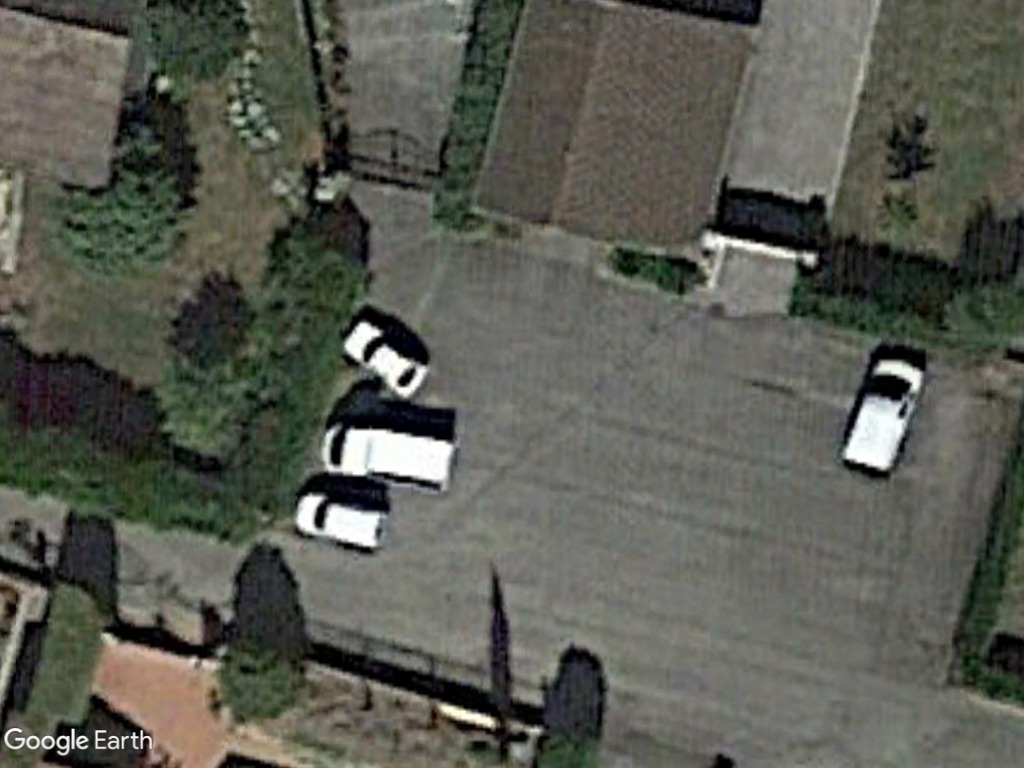car: (338, 316, 432, 402), (292, 487, 387, 555)
van: (315, 419, 456, 498), (839, 356, 925, 478)
